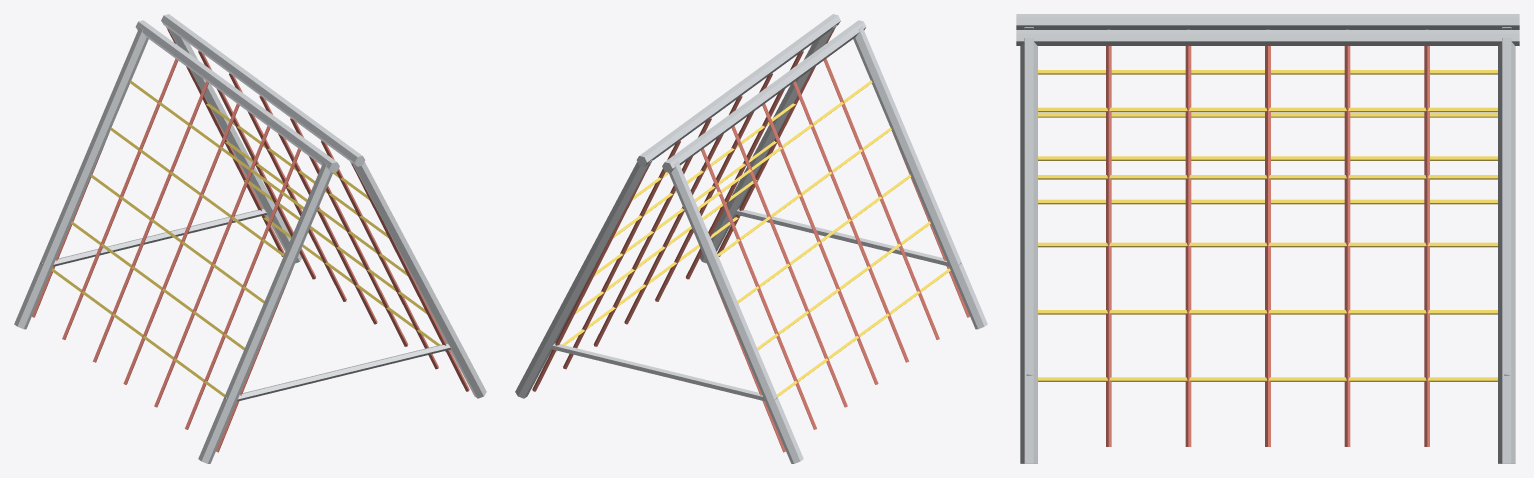
Rendered from 33662-Rope-Net-Climber-City-Park-and-Playground.glb.
The picture shows the model from 3 angles, left to right: view 1: azimuth 30°, elevation 25°; view 2: azimuth 150°, elevation 25°; view 3: azimuth 270°, elevation 25°; orthographic projection. The views are drawn at different scales.
Visible parts, largest first — view 1: rope-net-climber-steel, rope-net-climber-poppy, rope-net-climber-sunflower; view 2: rope-net-climber-steel, rope-net-climber-poppy, rope-net-climber-sunflower; view 3: rope-net-climber-steel, rope-net-climber-sunflower, rope-net-climber-poppy.
Part boxes in pixels (<box>): rope-net-climber-steel: <box>14,14,486,463</box>; rope-net-climber-poppy: <box>32,29,469,452</box>; rope-net-climber-sunflower: <box>51,80,445,396</box>; rope-net-climber-steel: <box>515,14,987,463</box>; rope-net-climber-poppy: <box>532,29,969,452</box>; rope-net-climber-sunflower: <box>556,80,950,396</box>; rope-net-climber-steel: <box>1016,14,1519,463</box>; rope-net-climber-sunflower: <box>1038,70,1497,381</box>; rope-net-climber-poppy: <box>1106,29,1429,446</box>.
Bounding box in the file's own units: 2.69 × 2.46 × 3.16.
